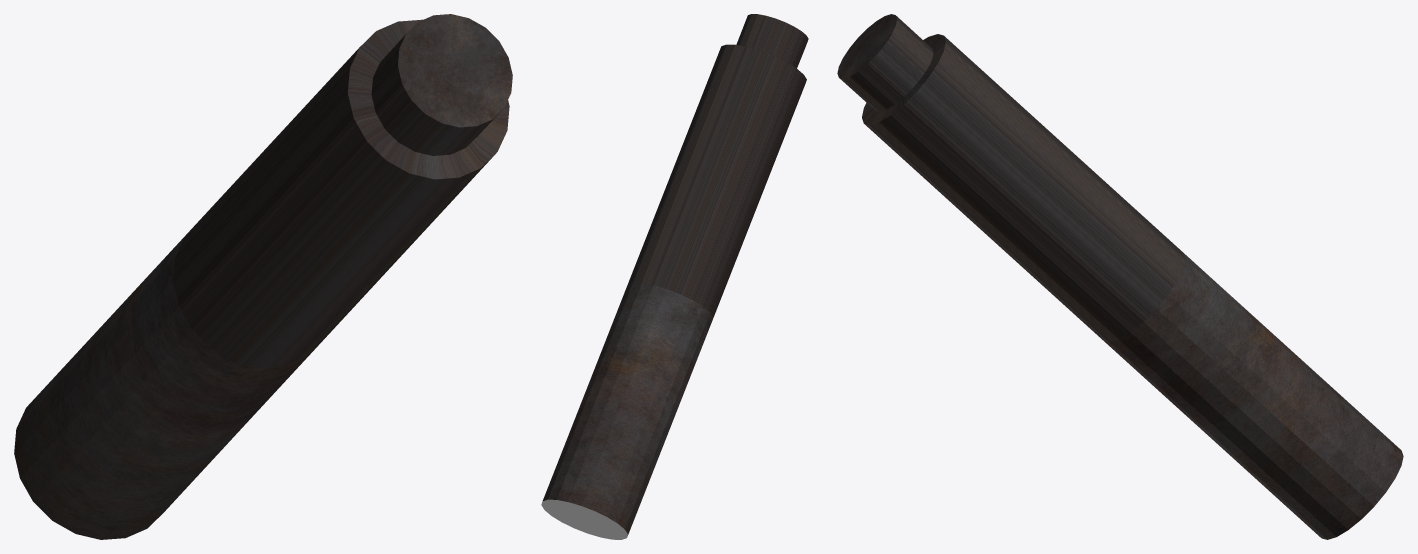
File: TorchCory.fbx
The picture shows the model from 3 angles, left to right: view 1: azimuth 30°, elevation 25°; view 2: azimuth 150°, elevation 25°; view 3: azimuth 270°, elevation 25°; orthographic projection. The views are drawn at different scales.
Parts seen in each view (by area): view 1: polySurface95; view 2: polySurface95; view 3: polySurface95.
Boxes of the visible parts, box(x1,y1,x2,y2) form: polySurface95: box(14, 14, 512, 539); polySurface95: box(541, 14, 808, 539); polySurface95: box(837, 14, 1403, 539).
Bounding box in the file's own units: 0.9674 × 4.6 × 4.6.
3 materials, 2 textured.
